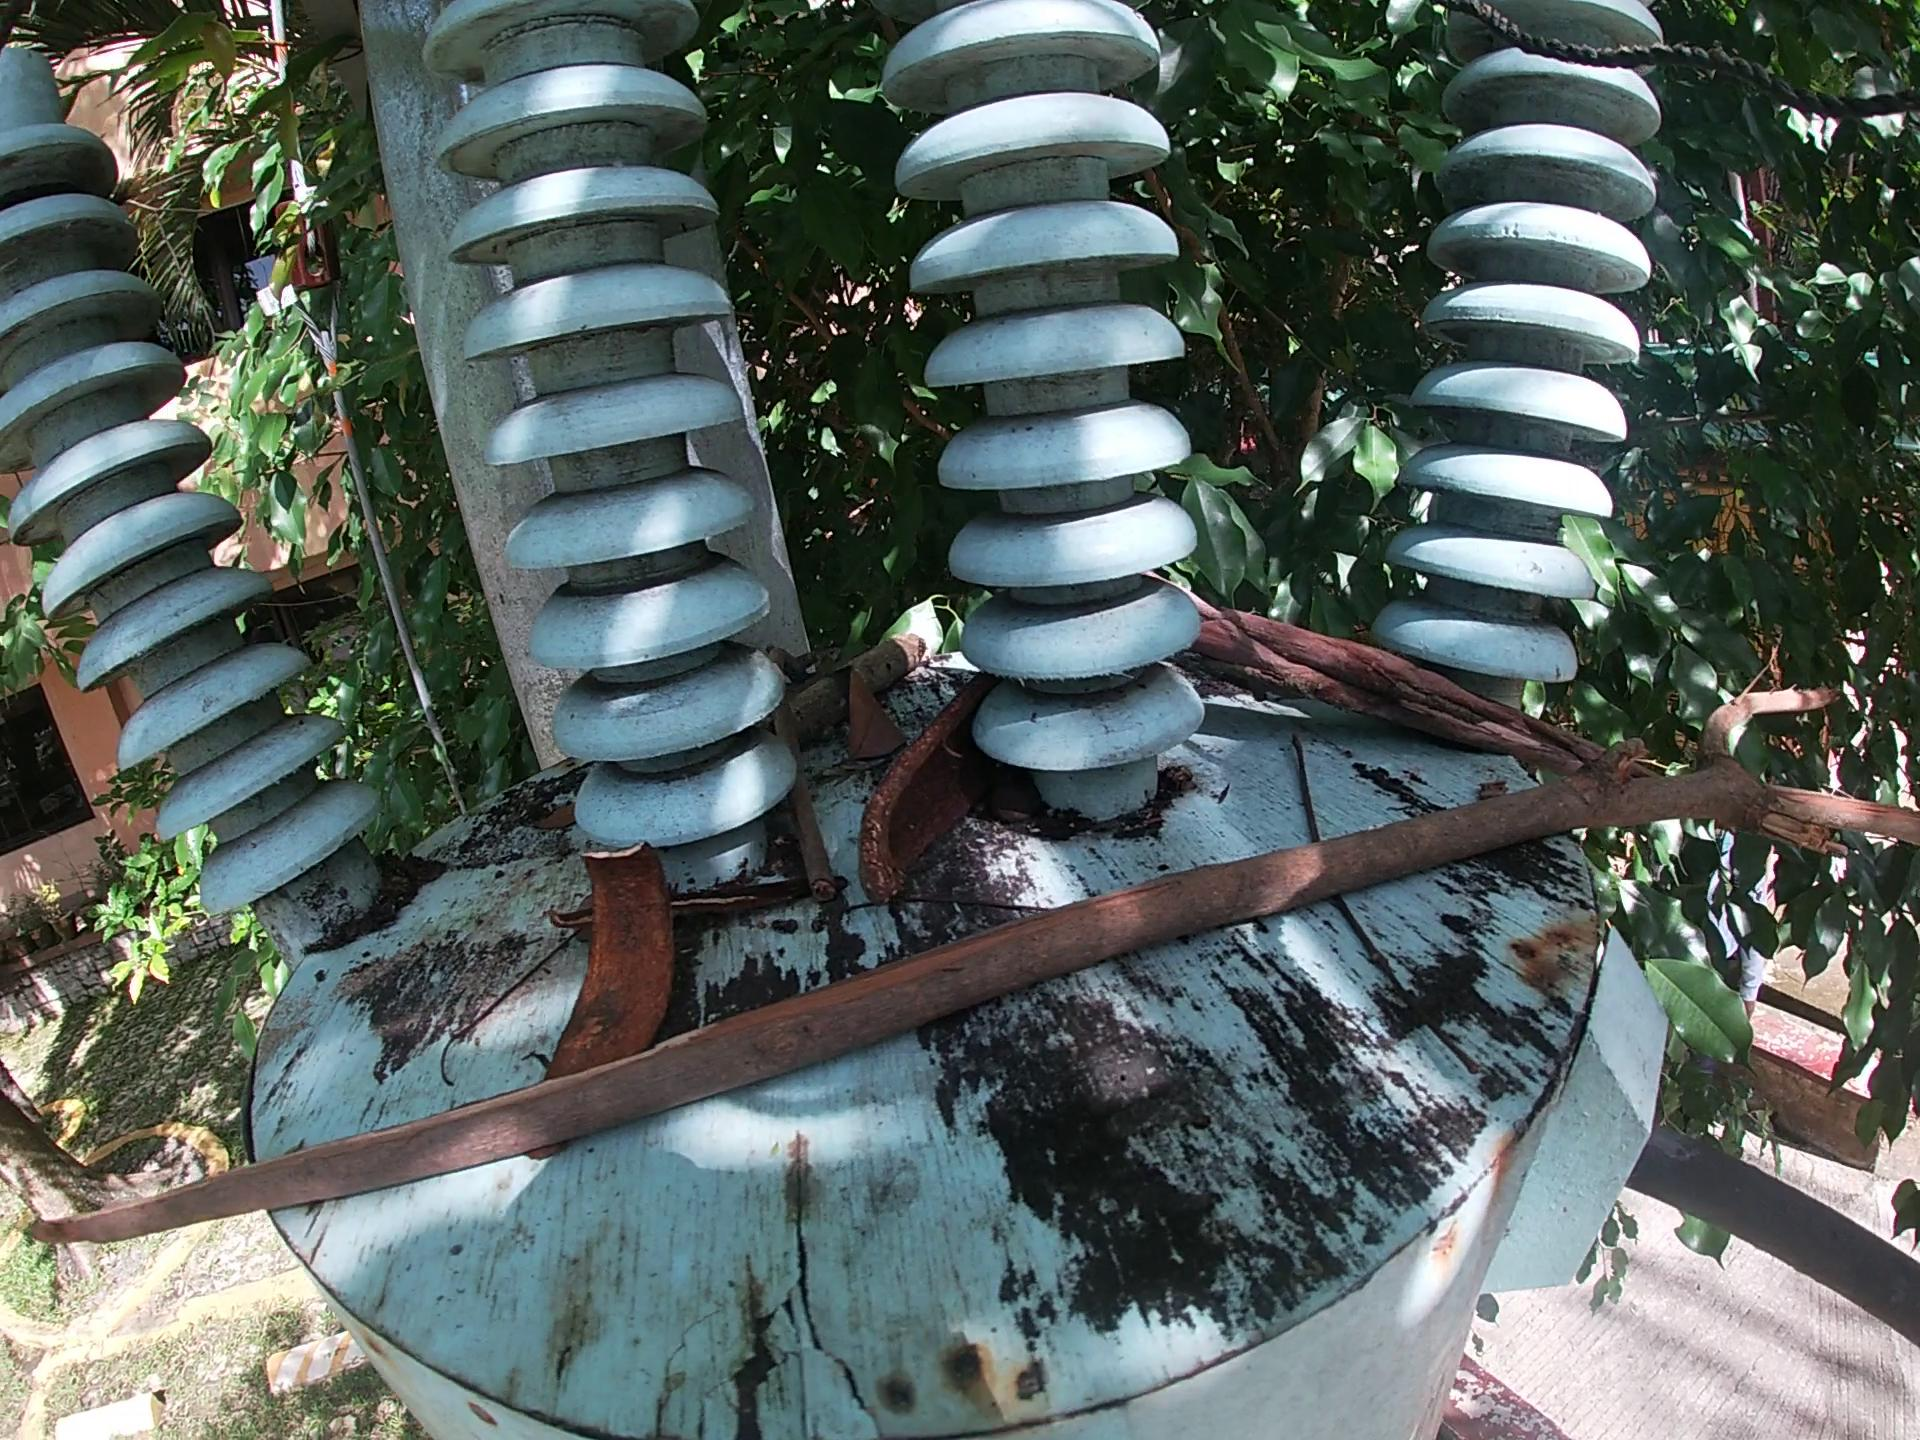leaf: (531, 805, 576, 839)
mahogany fruit: (490, 817, 676, 1078), (860, 693, 999, 917)
tree branch: (24, 638, 1920, 1278), (1138, 560, 1618, 779), (1327, 895, 1516, 1085), (759, 640, 856, 912), (437, 942, 565, 1095), (765, 623, 934, 729), (801, 889, 1048, 939), (674, 876, 791, 930), (1285, 720, 1335, 843), (540, 902, 594, 933)
